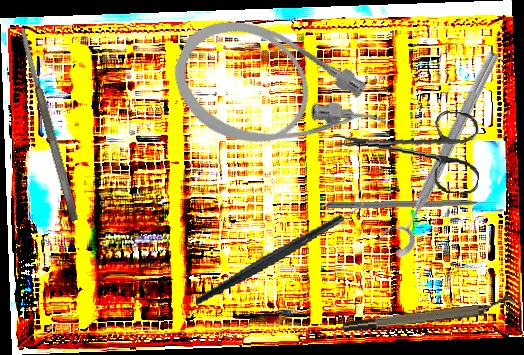Cannula: (157, 0, 402, 193)
Chopper: (181, 189, 381, 308)
Fixation Ring: (373, 42, 506, 261), (341, 293, 518, 336)
Hook Surgical: (325, 199, 502, 211)
Iris Scissors: (331, 101, 485, 196)
Spatula Surgical: (17, 26, 80, 223)
